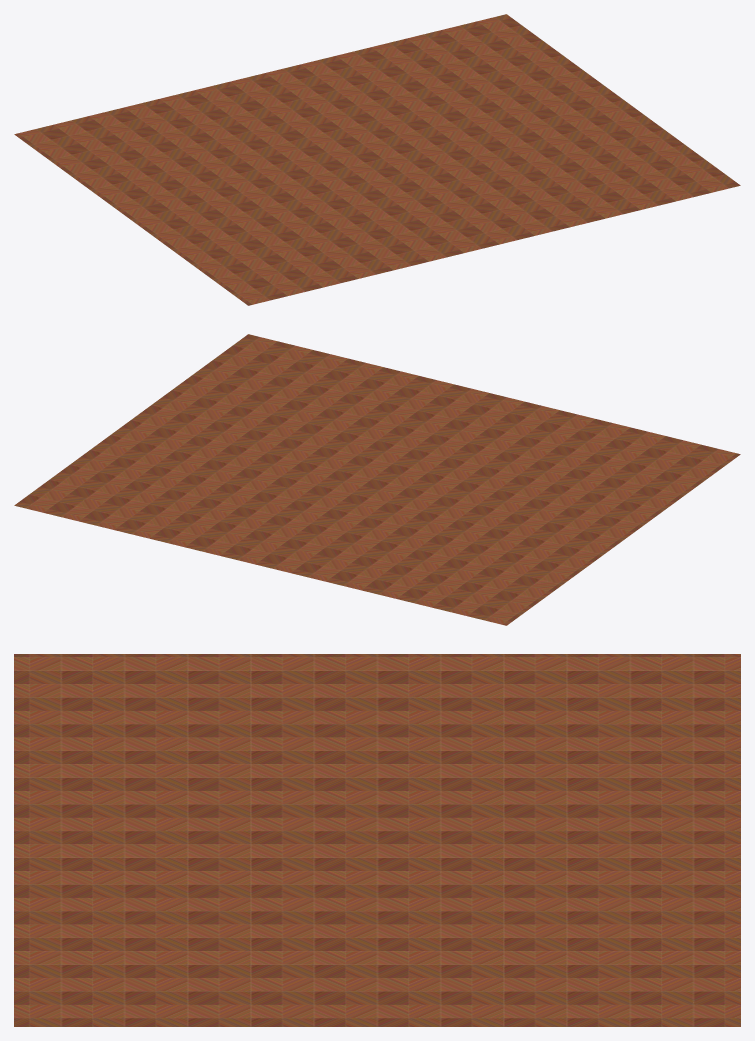
Rendered from CR3_audiencefloor.fbx.
3 views of the same model, one above another, from view 1: azimuth 30°, elevation 25°; view 2: azimuth 150°, elevation 25°; view 3: azimuth 270°, elevation 25° (orthographic). The views are drawn at different scales.
Parts seen in each view (by area): view 1: CR3_audiencefloor; view 2: CR3_audiencefloor; view 3: CR3_audiencefloor.
Boxes of the visible parts, box(x1,y1,x2,y2) form: CR3_audiencefloor: box(14, 14, 740, 305); CR3_audiencefloor: box(14, 334, 740, 625); CR3_audiencefloor: box(14, 654, 740, 1026).
Bounding box in the file's own units: 16.75 × 6.03e-07 × 13.8.
1 material, 1 textured.
